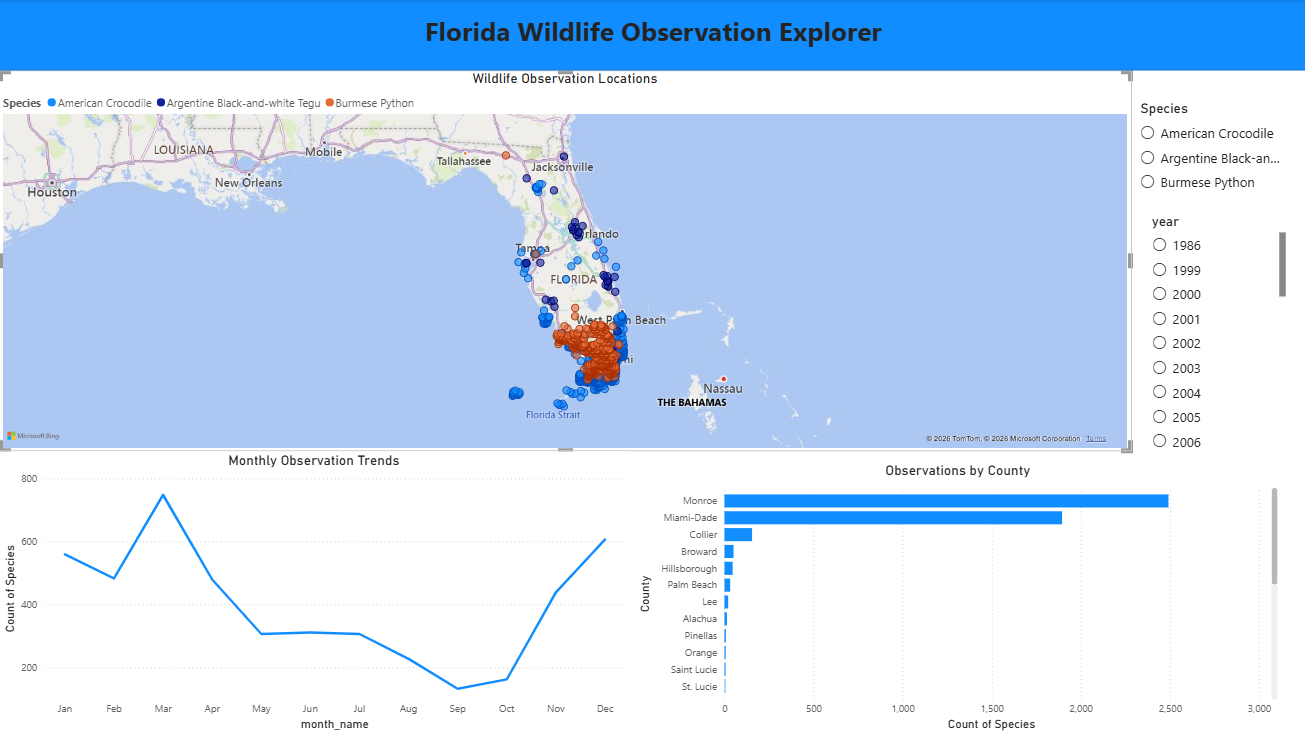

The dashboard page shown, as its layout file describes it:
{"tool":"powerbi","page":{"name":"Page 1","canvas":[1600,900],"ordinal":0},"visuals":[{"type":"map","title":"Wildlife Observation Locations","fields":{"Y":["wildlife_observations.latitude"],"X":["wildlife_observations.longitude"],"Series":["wildlife_observations.common_name"]},"box":[0,87.5,1384.2,466.6],"z":0},{"type":"listSlicer","fields":{"Values":["wildlife_observations.common_name"]},"box":[1391.1,123.5,200.7,118.4],"z":1000},{"type":"listSlicer","fields":{"Values":["wildlife_observations.year"]},"box":[1404.7,261.4,174.3,292],"z":2000},{"type":"shape","box":[0,0,1600.3,87.5],"z":2500},{"type":"lineChart","title":"Monthly Observation Trends","fields":{"Category":["wildlife_observations.month_name"],"Y":["CountNonNull(wildlife_observations.common_name)"]},"box":[0,554,770.2,346.5],"z":3000},{"type":"barChart","title":"Observations by County","fields":{"Category":["wildlife_observations.place_county_name"],"Y":["CountNonNull(wildlife_observations.common_name)"]},"box":[777,566,792.5,334.5],"z":4000},{"type":"textbox","box":[0,12,1600.3,75.5],"z":6000}]}

Visuals, with their boxes in screenshot pixels (x1, y1, x2, y2), scaled from the page's 1600x900 canvas onto the 1305x735 screenshot:
"Wildlife Observation Locations" map: x1=0 y1=71 x2=1129 y2=453
listSlicer - wildlife_observations.common_name: x1=1135 y1=101 x2=1298 y2=198
listSlicer - wildlife_observations.year: x1=1146 y1=213 x2=1288 y2=452
shape: x1=0 y1=0 x2=1304 y2=71
"Monthly Observation Trends" lineChart: x1=0 y1=452 x2=628 y2=734
"Observations by County" barChart: x1=634 y1=462 x2=1280 y2=734
textbox: x1=0 y1=10 x2=1304 y2=71
